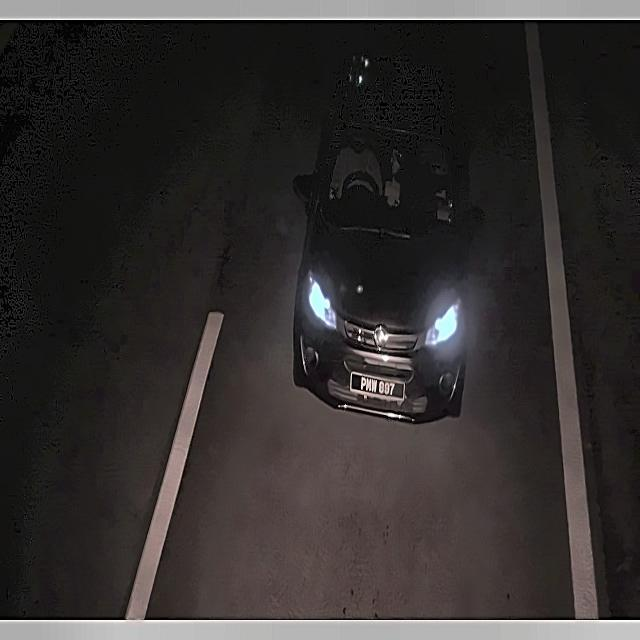car: (348, 365, 412, 409)
